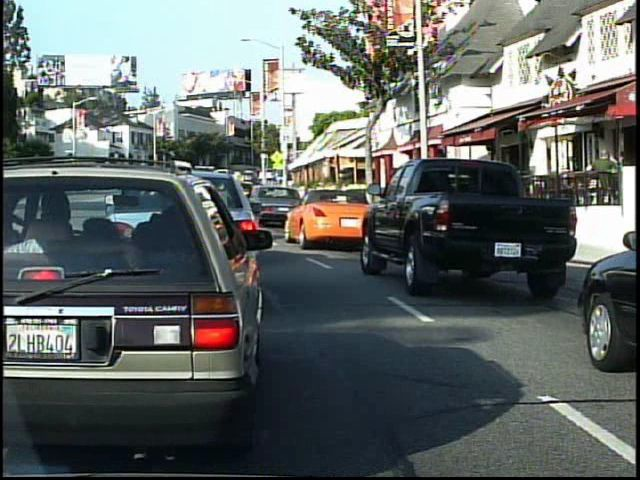person: (587, 141, 622, 224)
